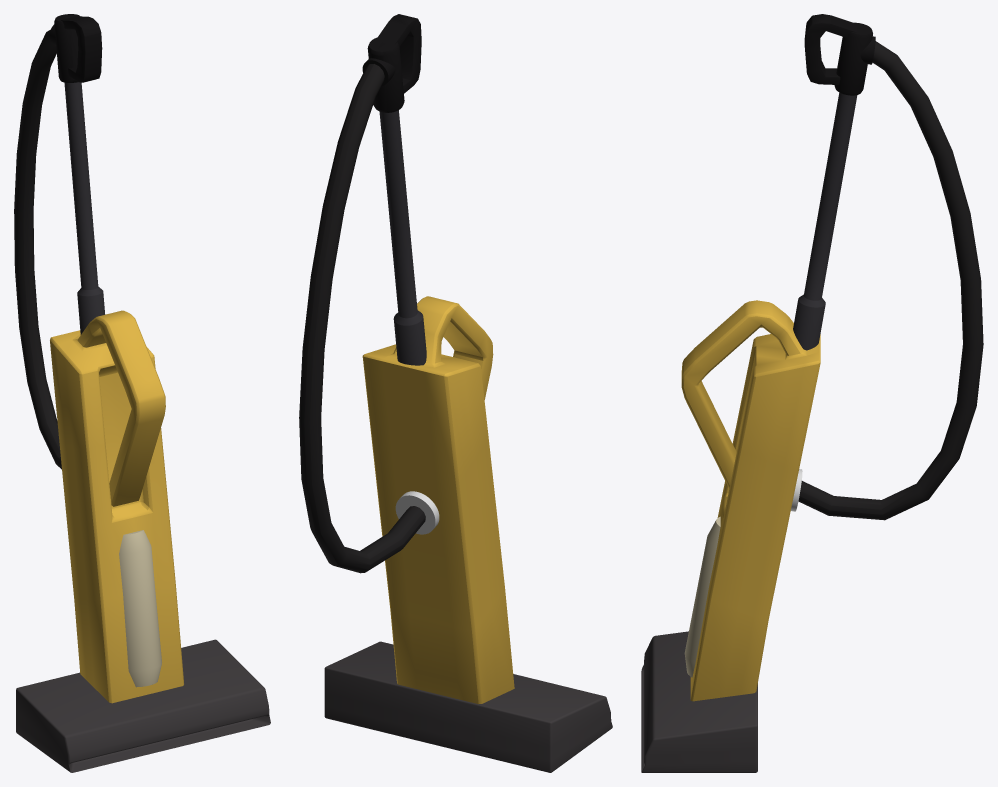
Rendered from imuri2.fbx.
3 renders of one model, left to right at view 1: azimuth 30°, elevation 25°; view 2: azimuth 150°, elevation 25°; view 3: azimuth 270°, elevation 25°, orthographic. The views are drawn at different scales.
Visible parts, largest first — view 1: valmis imuri; view 2: valmis imuri; view 3: valmis imuri.
Part boxes in pixels (x1,y1,x2,y2): valmis imuri: (14,14,270,772); valmis imuri: (299,14,612,772); valmis imuri: (641,14,983,772).
Bounding box in the file's own units: 119 × 377 × 166.
